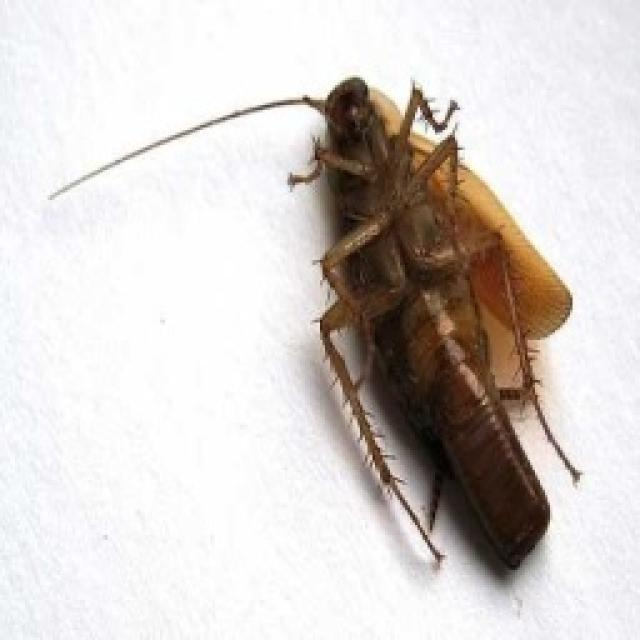cockroach: (44, 70, 588, 576)
